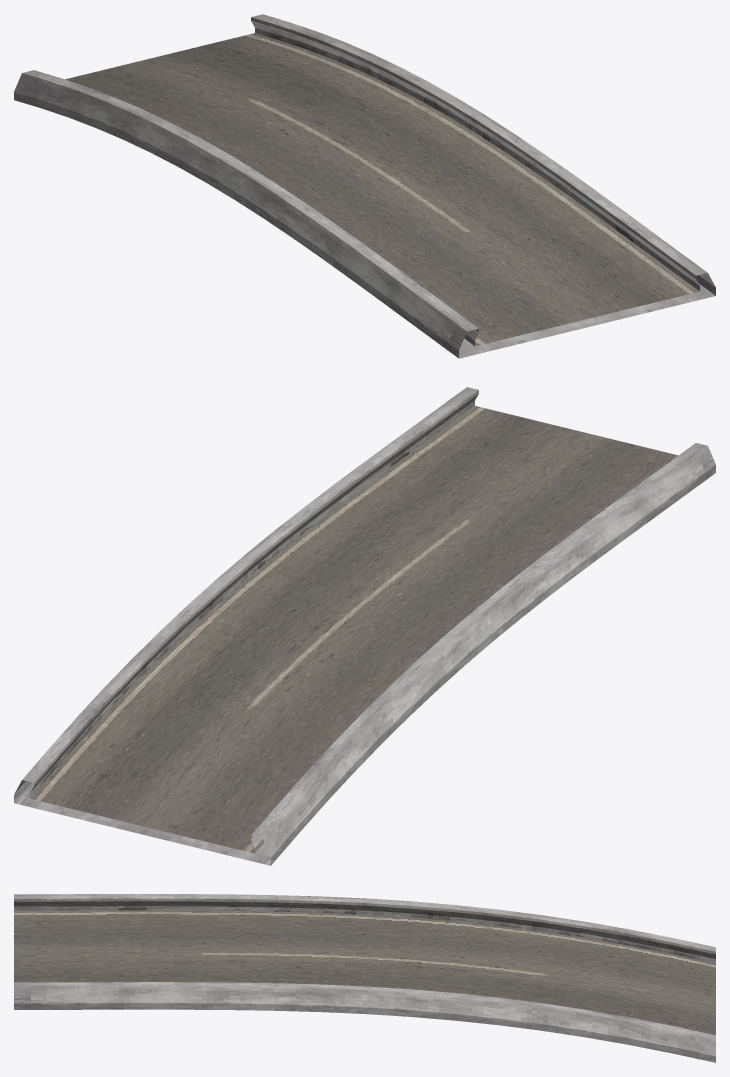
Rendered from straight3.glb.
3 views of the same model, one above another, from view 1: azimuth 30°, elevation 25°; view 2: azimuth 150°, elevation 25°; view 3: azimuth 270°, elevation 25° (orthographic). The views are drawn at different scales.
Parts seen in each view (by area): view 1: road-Straight-Flat-BiSlopeDown-Down1-Center-Size3; view 2: road-Straight-Flat-BiSlopeDown-Down1-Center-Size3; view 3: road-Straight-Flat-BiSlopeDown-Down1-Center-Size3.
Boxes of the visible parts, <box> form: road-Straight-Flat-BiSlopeDown-Down1-Center-Size3: <box>14,14,715,358</box>; road-Straight-Flat-BiSlopeDown-Down1-Center-Size3: <box>14,387,715,865</box>; road-Straight-Flat-BiSlopeDown-Down1-Center-Size3: <box>14,894,715,1062</box>.
Size of the model in its own units: 1 by 0.3448 by 3.
2 materials, 2 textured.
